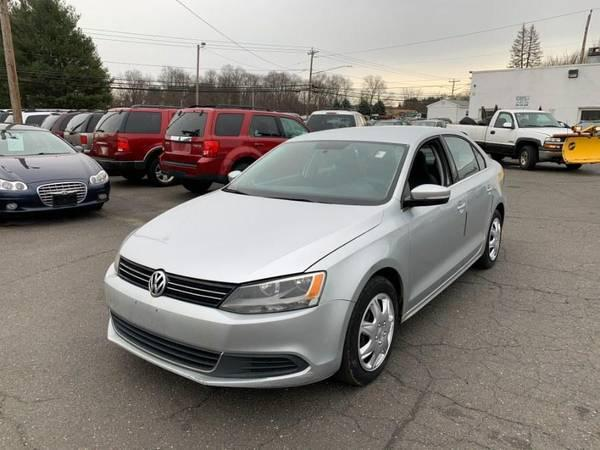Front_Bumper: (104, 266, 354, 392)
Front_Fender: (304, 199, 410, 320)
Front_Left_Door: (405, 179, 469, 313)
Front_Left_Window: (401, 133, 457, 209)
Front_Windshield: (222, 138, 407, 203)
Grille: (115, 254, 239, 309)
Hood: (119, 189, 388, 282)
Left_Headlight: (221, 268, 326, 313)
Rear_Left_Door: (460, 165, 504, 268)
Rear_Left_Window: (443, 131, 491, 179)
Roof: (284, 124, 496, 204)
Wheel: (344, 276, 401, 385), (488, 211, 504, 262)
